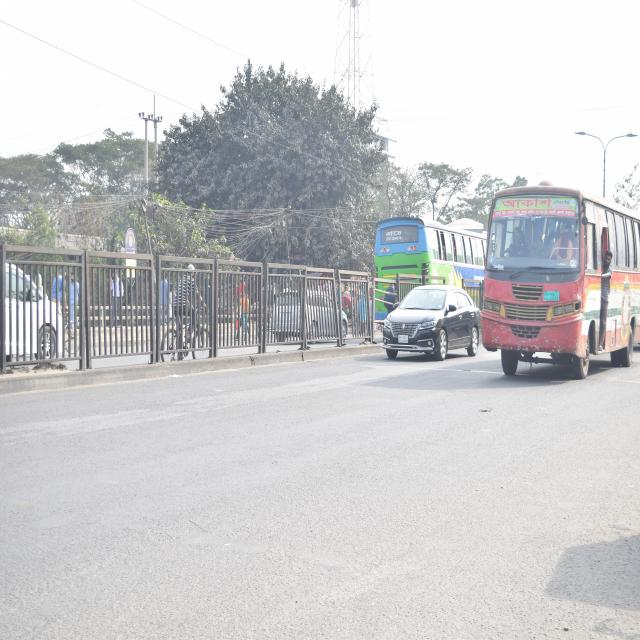bus: (476, 177, 640, 390), (364, 212, 487, 292)
car: (378, 279, 480, 363)
